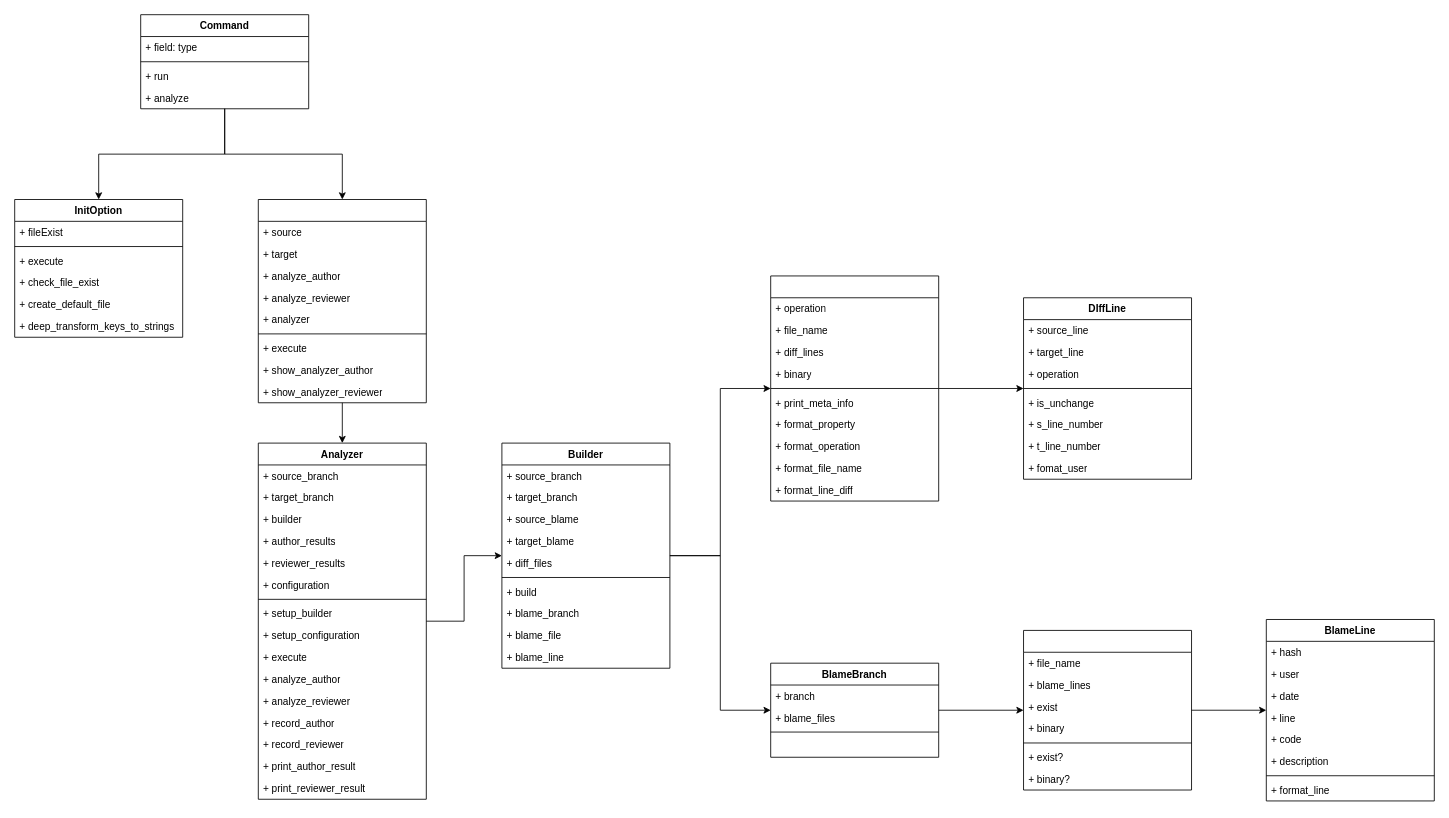
This 1449x818 diagram has some shape labels left out. Each missing label, with the box of its shape:
AnalyzeOption: (257, 199, 426, 403)
BlameFile: (1023, 630, 1192, 790)
DIffFile: (770, 275, 939, 501)
